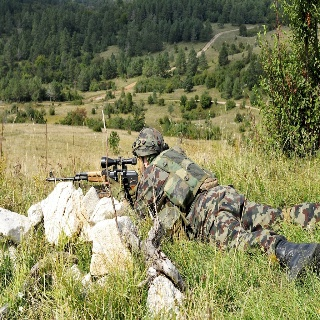rifle: (45, 156, 140, 193)
